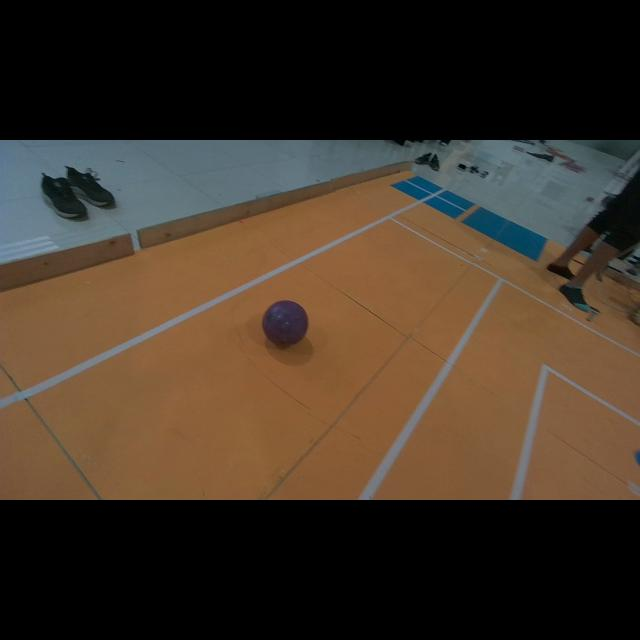P: (262, 300, 309, 349)
